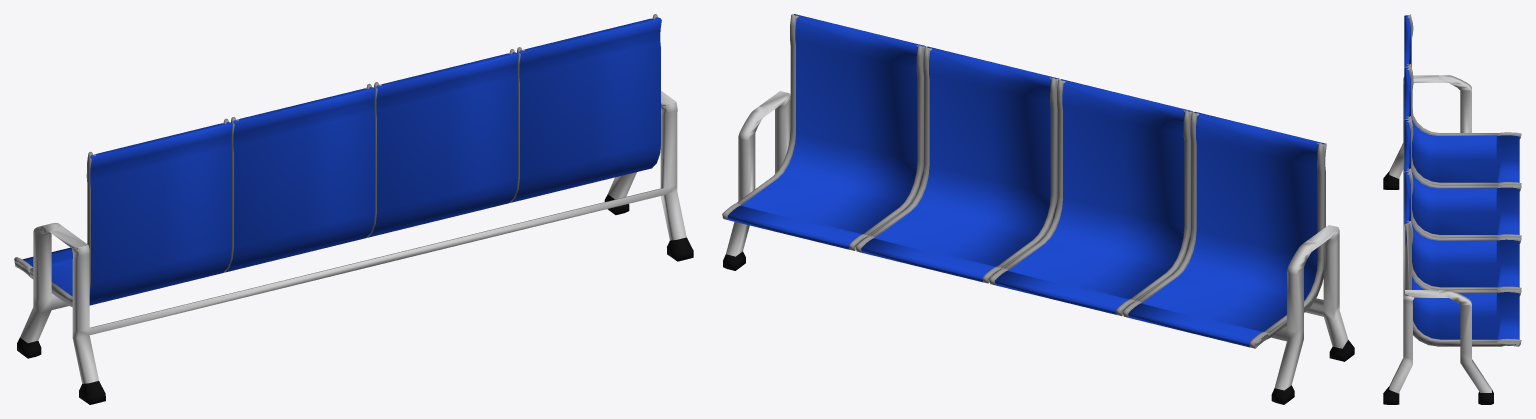
The model's file is Hospital bench.fbx.
3 views of the same model, side by side, from view 1: azimuth 30°, elevation 25°; view 2: azimuth 150°, elevation 25°; view 3: azimuth 270°, elevation 25° (orthographic). The views are drawn at different scales.
Parts seen in each view (by area): view 1: Plane; view 2: Plane; view 3: Plane.
Boxes of the visible parts, x1=… form: Plane: x1=14, y1=14, x2=693, y2=404; Plane: x1=722, y1=14, x2=1354, y2=404; Plane: x1=1383, y1=14, x2=1521, y2=404.
Bounding box in the file's own units: 927 × 349 × 246.
